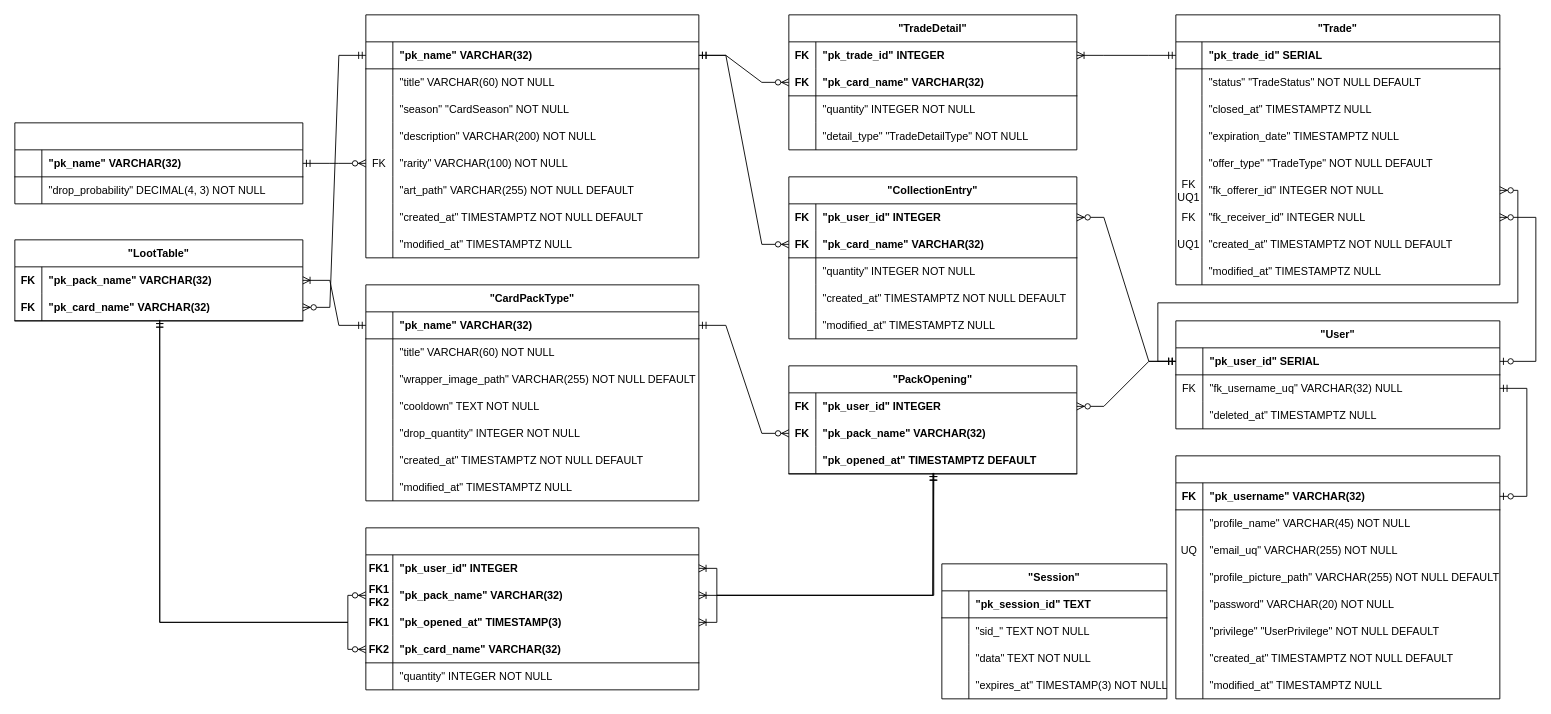
The diagram is 1551 pixels wide and 714 high, and some of its shapes have lost their labels. The box of each missing label's shape, as (x1, y1, x2, y2) in pixels:
"CardClass": (365, 14, 699, 258)
"OpeningDetail": (365, 527, 699, 690)
"Rarity": (14, 122, 303, 204)
"UserData": (1175, 455, 1500, 699)
